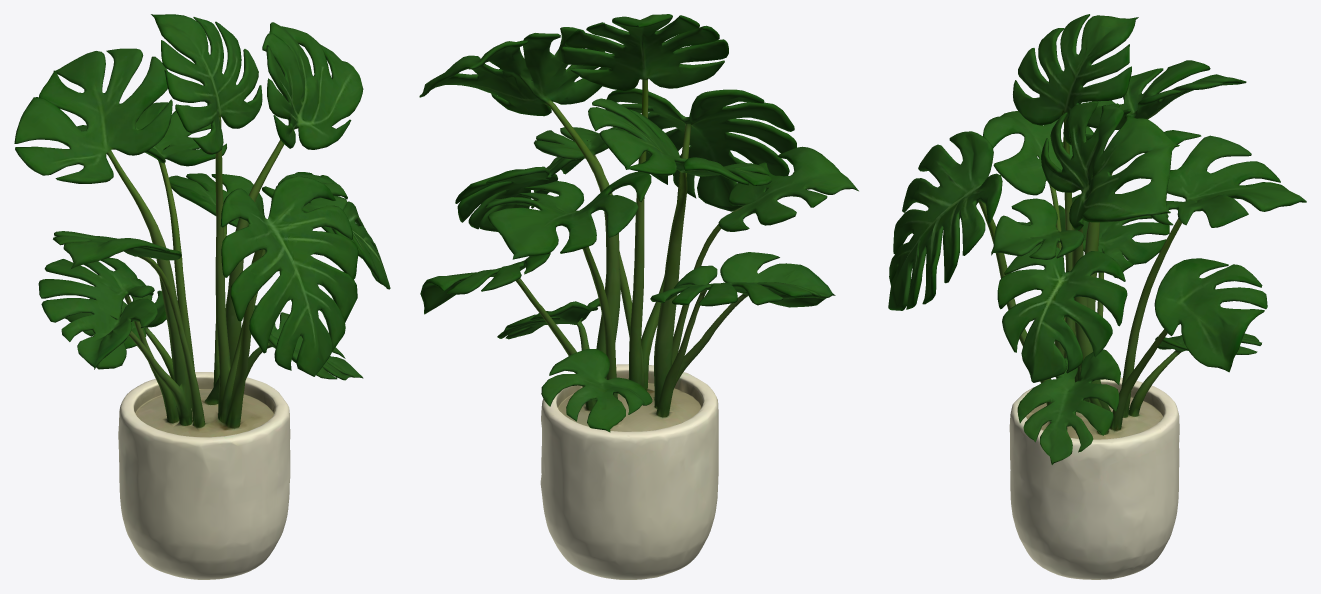
Rendered from 15-planta.glb.
3 renders of one model, left to right at view 1: azimuth 30°, elevation 25°; view 2: azimuth 150°, elevation 25°; view 3: azimuth 270°, elevation 25°, orthographic. The views are drawn at different scales.
Visible parts, largest first — view 1: tripo_node_bda73f65-2513-4f12-9328-820c051085d5; view 2: tripo_node_bda73f65-2513-4f12-9328-820c051085d5; view 3: tripo_node_bda73f65-2513-4f12-9328-820c051085d5.
Part boxes in pixels (left/top/right/bottom): tripo_node_bda73f65-2513-4f12-9328-820c051085d5: left=14, top=14, right=390, bottom=579; tripo_node_bda73f65-2513-4f12-9328-820c051085d5: left=419, top=14, right=858, bottom=579; tripo_node_bda73f65-2513-4f12-9328-820c051085d5: left=888, top=14, right=1306, bottom=579.
Bounding box in the file's own units: 0.6842 × 1 × 0.722.
Materials: 1 (1 with a texture image).
